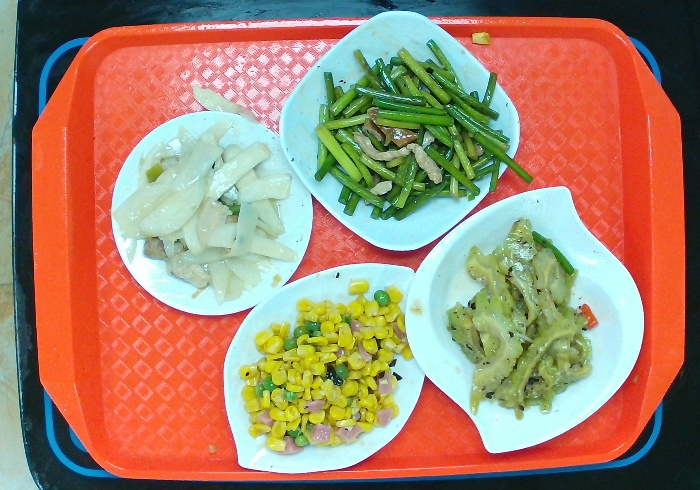RJxy-Da_Du_Pan: (220, 261, 427, 475)
RJxy-Shuang_Jiao_Pan: (403, 183, 647, 455)
RJxy-Si_Fang_Wan: (276, 9, 522, 253)
RJxy-Xiao_Yuan_Die: (108, 107, 315, 317)
